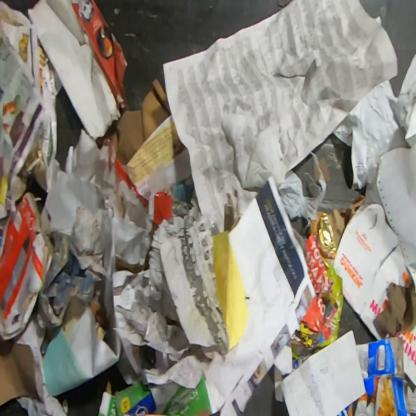cardboard: (25, 0, 129, 142), (333, 202, 413, 340), (0, 190, 55, 340), (336, 335, 412, 415), (98, 370, 212, 416), (114, 76, 172, 166), (0, 333, 41, 410), (328, 194, 366, 252), (395, 322, 415, 388), (310, 210, 323, 236)
metal: (316, 211, 336, 259)
soft_plastic: (277, 151, 328, 236)
